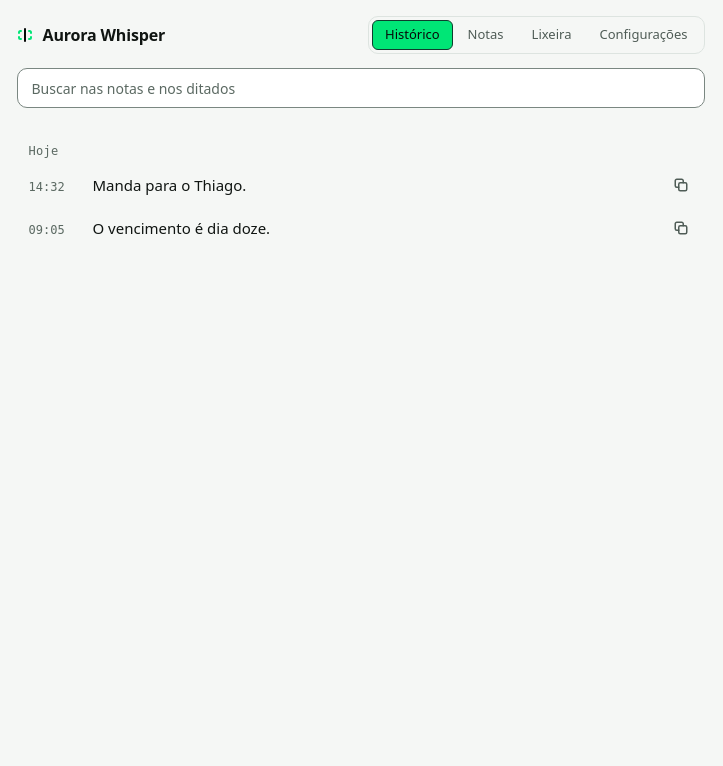
Test: painel › lixeira: lista o que foi apagado e restaura
The width and height of the screenshot is (723, 766).
Expected: the text "PostgreSQL" is not shown
Click the button "Lixeira" at (552, 35), box [519,20,584,50]
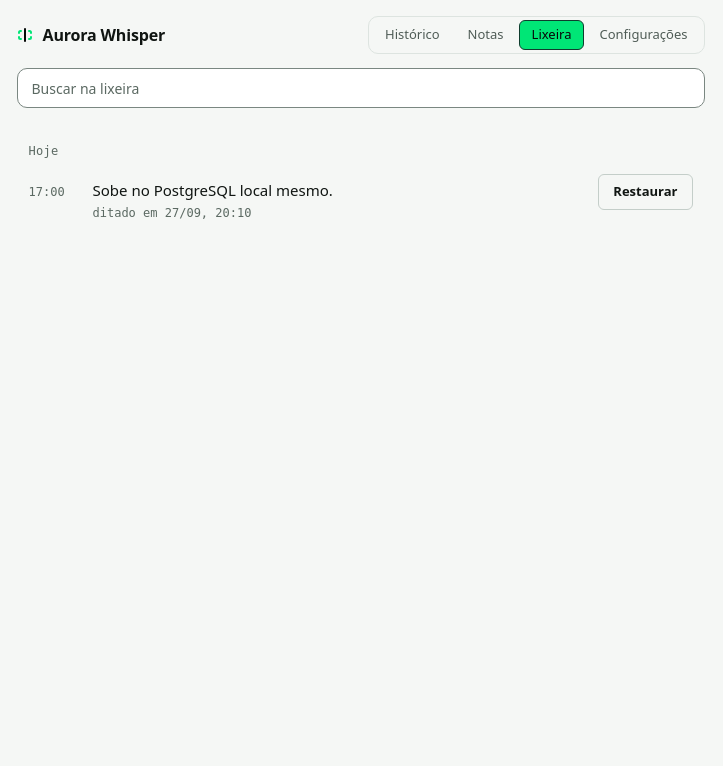
Expected: the text "ditado em 27/09, 20:10" is shown, [92,206,252,220]
Click the button "Restaurar" at (645, 192), box [598,174,692,210]
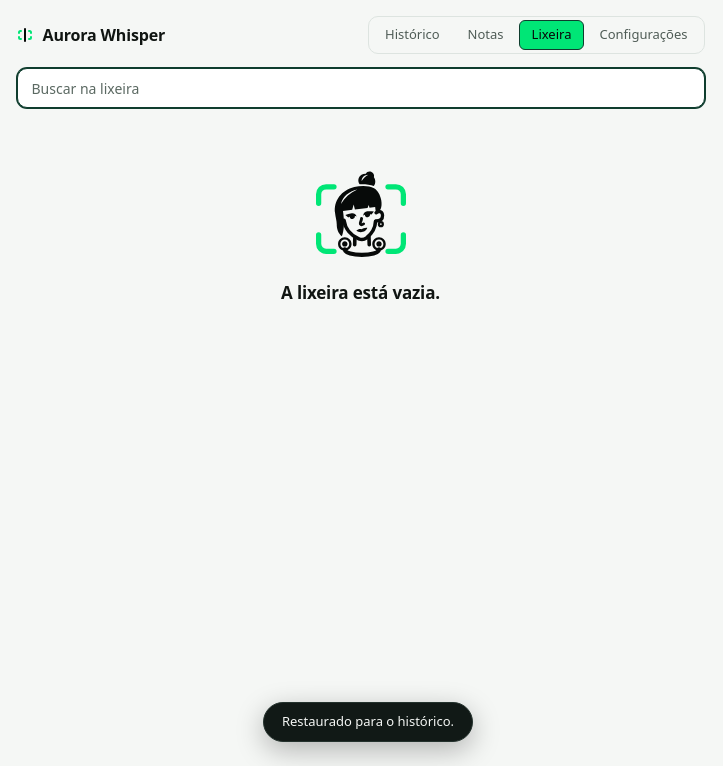
Expected: the text "A lixeira está vazia." is shown, [281,281,440,304]
Expected: the message with class "aviso-regiao" shows "Restaurado", [282,712,454,730]
